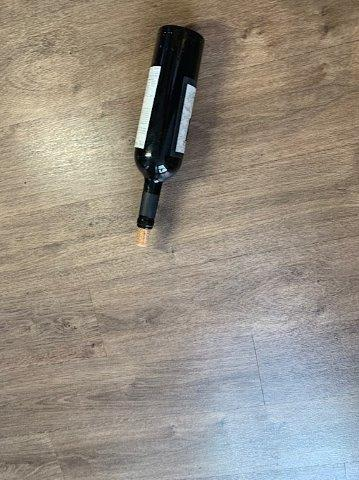botolkaca: (136, 26, 204, 246)
